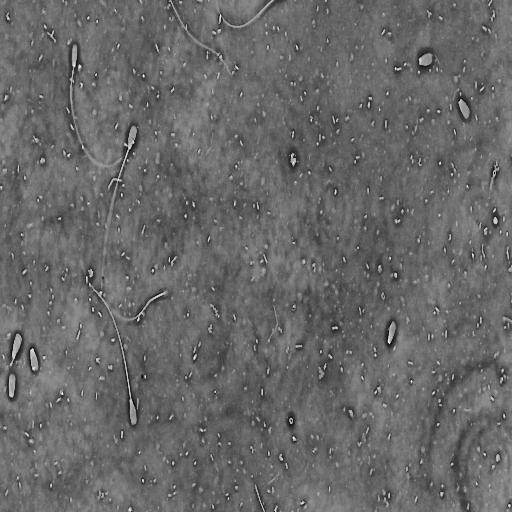dirt-particles: (289, 149, 298, 168), (287, 414, 295, 427)
loose-head: (10, 331, 24, 367), (417, 49, 437, 69), (457, 96, 472, 121), (7, 370, 18, 402), (386, 318, 398, 347), (29, 346, 40, 375)
loose-tail: (167, 0, 235, 81)
normal: (86, 274, 138, 428), (69, 41, 125, 168), (99, 120, 138, 290)
